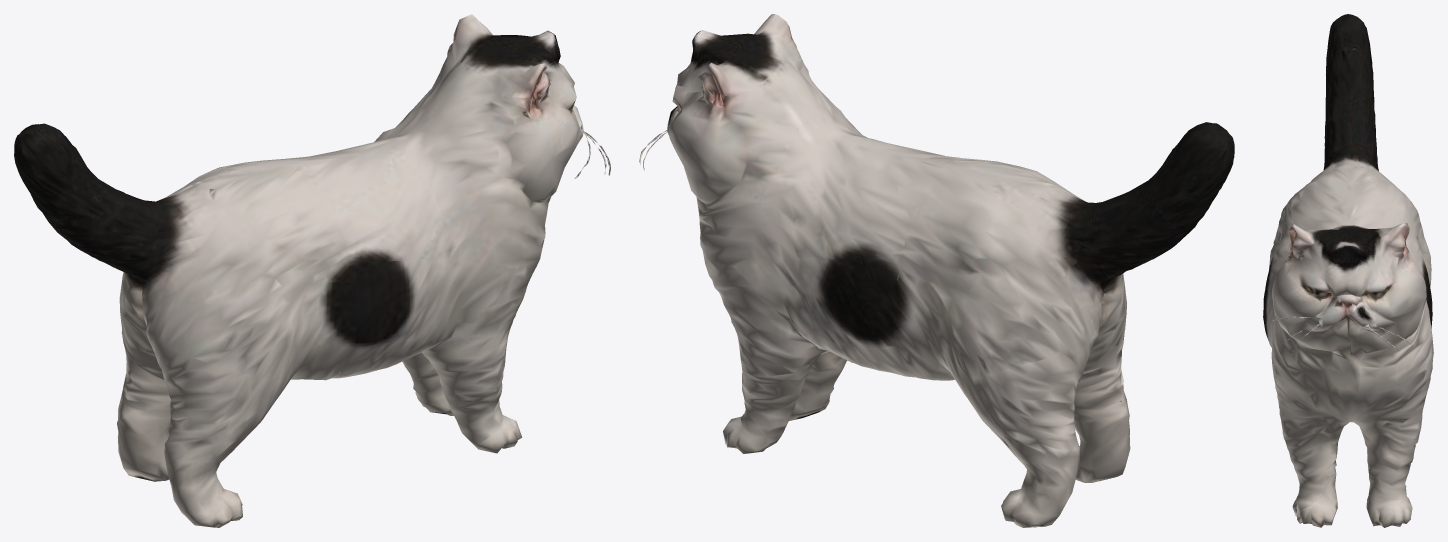
Rendered from OJINEKO-lo.glb.
3 renders of one model, left to right at view 1: azimuth 30°, elevation 25°; view 2: azimuth 150°, elevation 25°; view 3: azimuth 270°, elevation 25°, orthographic. The views are drawn at different scales.
Parts seen in each view (by area): view 1: tripo_node_26896545-21b7-464c-9e72-6ab543120349; view 2: tripo_node_26896545-21b7-464c-9e72-6ab543120349; view 3: tripo_node_26896545-21b7-464c-9e72-6ab543120349.
Boxes of the visible parts, left/top/right/bottom form: tripo_node_26896545-21b7-464c-9e72-6ab543120349: left=14, top=14, right=610, bottom=527; tripo_node_26896545-21b7-464c-9e72-6ab543120349: left=639, top=14, right=1234, bottom=527; tripo_node_26896545-21b7-464c-9e72-6ab543120349: left=1263, top=14, right=1433, bottom=527.
Size of the model in its own units: 1.44 by 0.9949 by 0.4636.
1 material, 1 textured.
